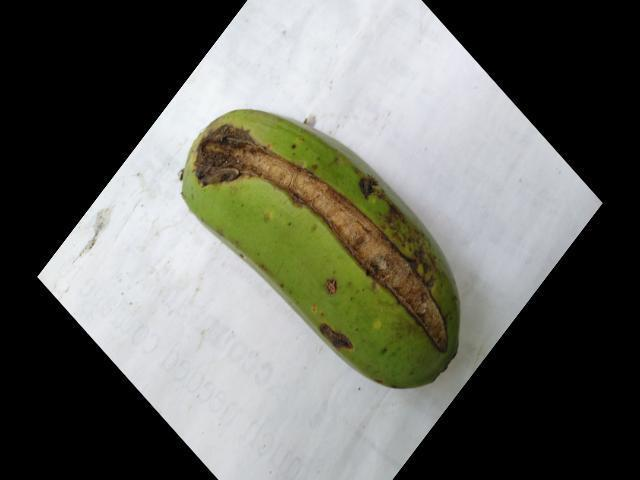rotten: (247, 138, 468, 359), (177, 87, 274, 199)
